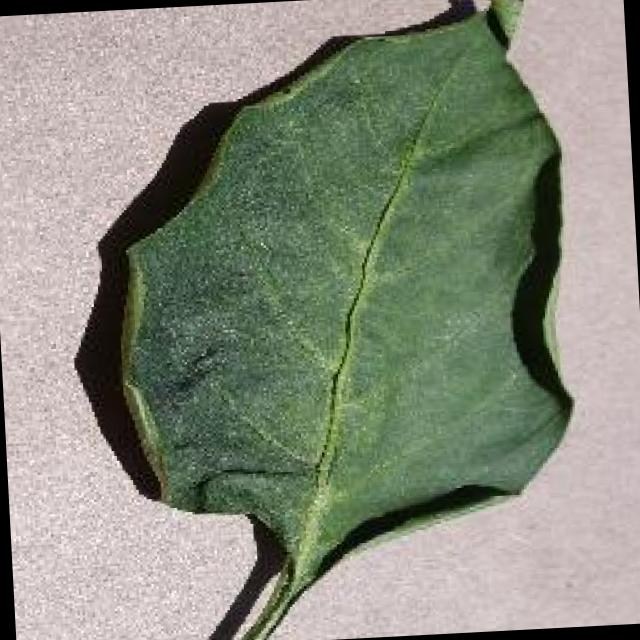Chilli_Healthy: (93, 0, 588, 640)
